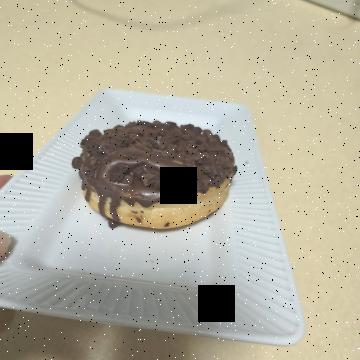doughnut: (97, 110, 235, 290)
